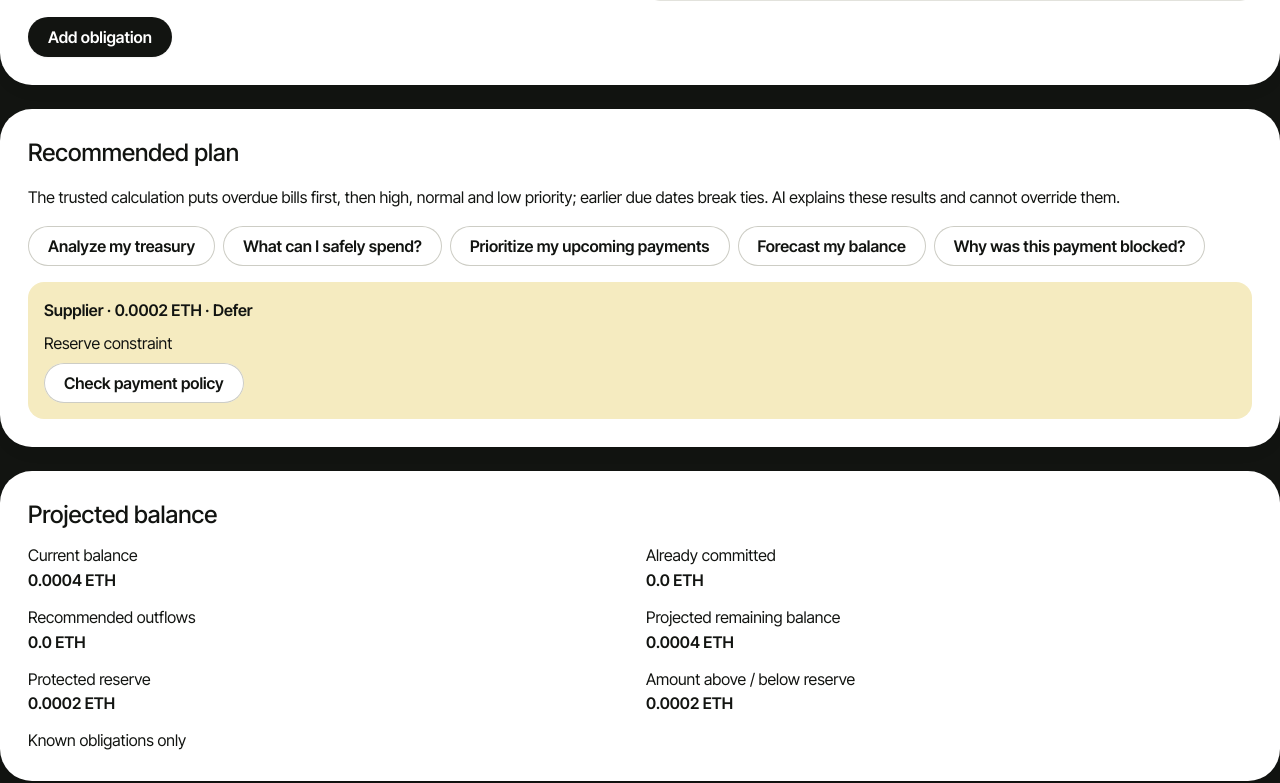
Scenario: Treasury Manager › shows the trusted rejection reason without a success or confirmed-payment claim
(page scrolled)
Click the button "Check payment policy".
click(144, 383)  # box [44, 363, 244, 403]
(page scrolled)
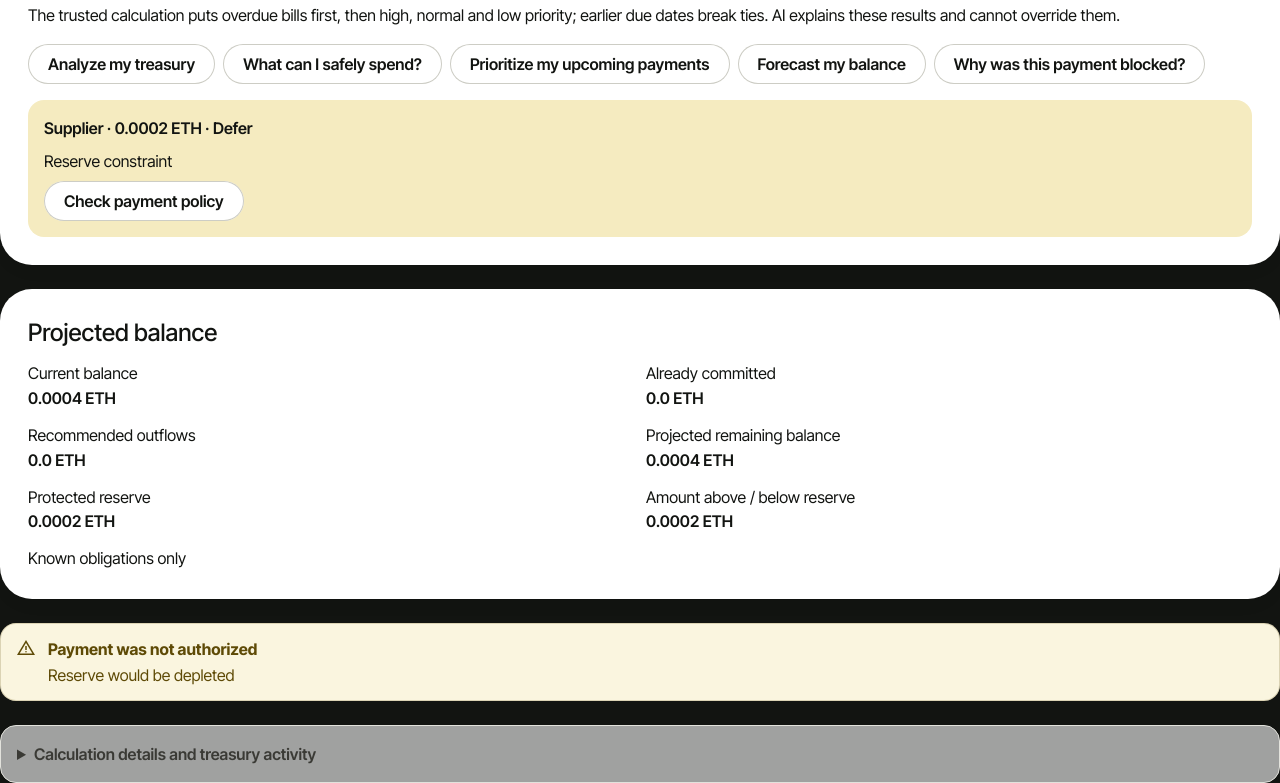
Expected: the text "Reserve would be depleted" is shown, [48, 663, 257, 687]
